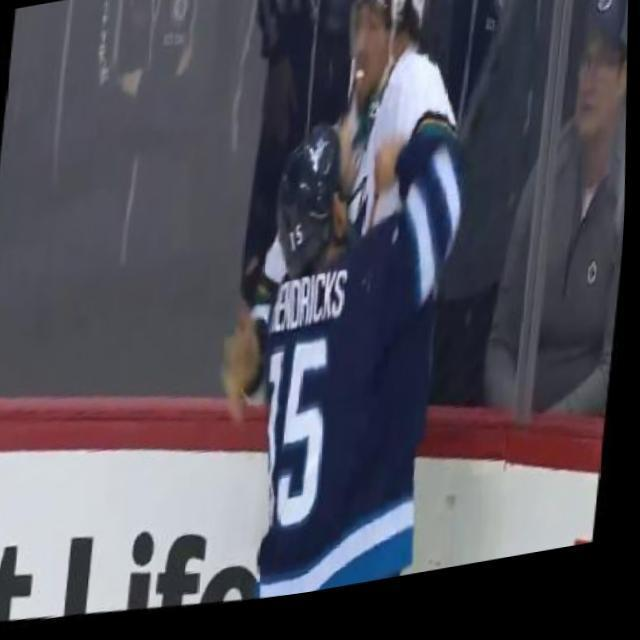fight: (176, 0, 517, 618)
